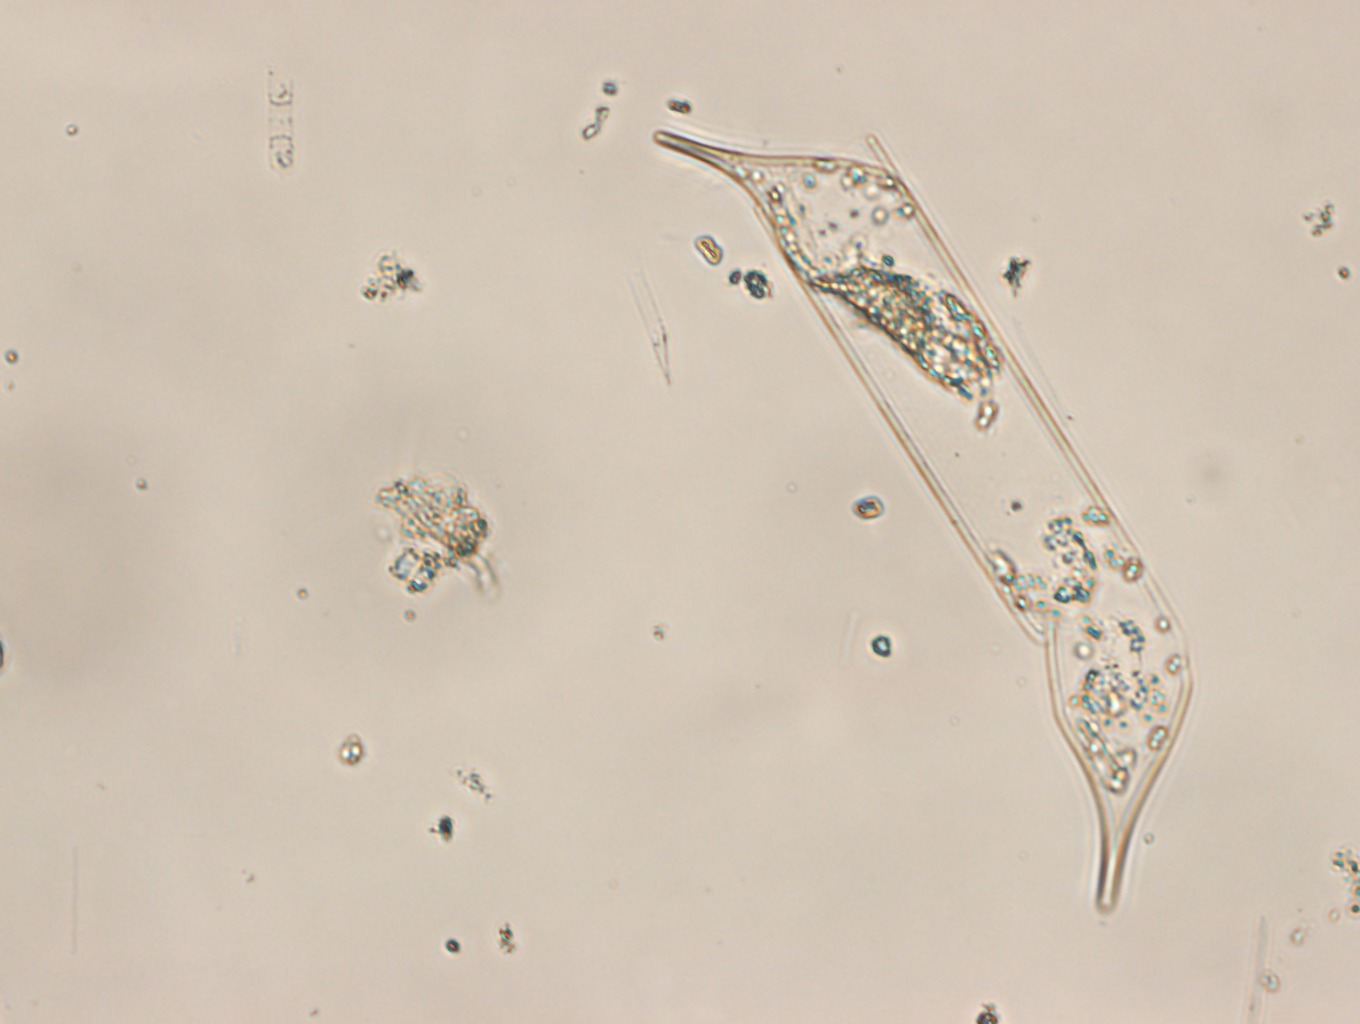rhizosolenia: (649, 126, 1196, 916)
